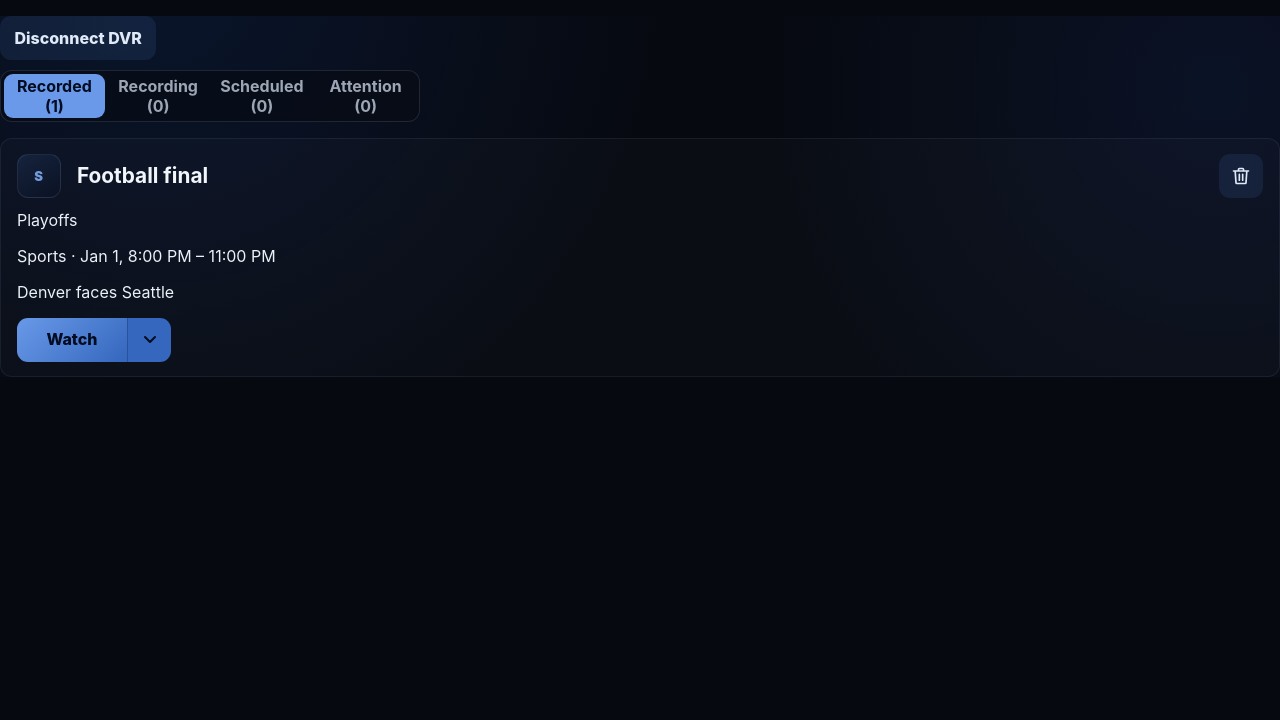
Test: DVR trash action › retires pending trash deletion after management permission loss
Click the button named "Delete recording: Football final": point(1241, 176) top-left (1219, 154), bottom-right (1263, 198)
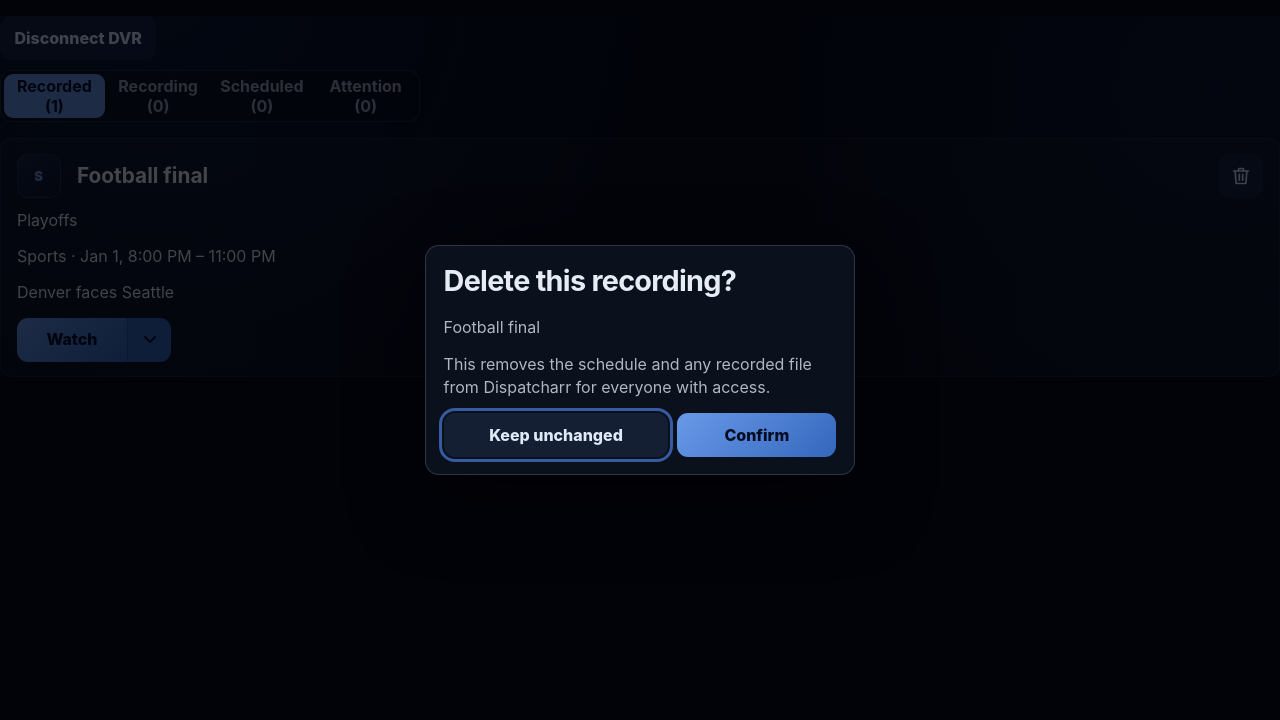
Check: the dialog "Delete this recording?" is shown, box top-left (425, 245), bottom-right (855, 475)
